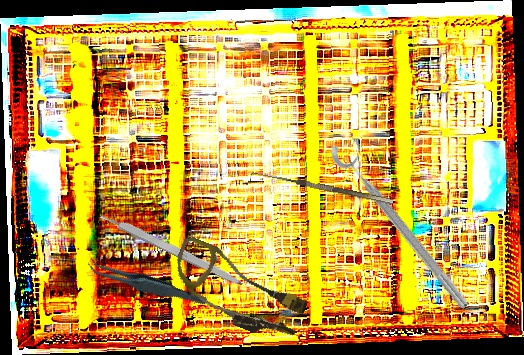Cannula: (161, 234, 315, 348)
Fixation Ring: (325, 130, 484, 314)
Hook Surgical: (249, 169, 394, 212)
Scalpel Handle: (98, 208, 246, 289)
Tissue Forceps: (85, 237, 208, 329)
